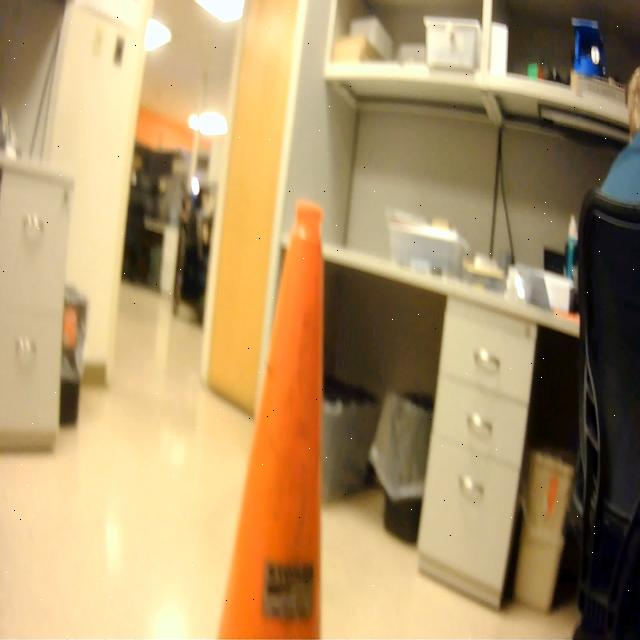traffic cone: (210, 190, 336, 640)
